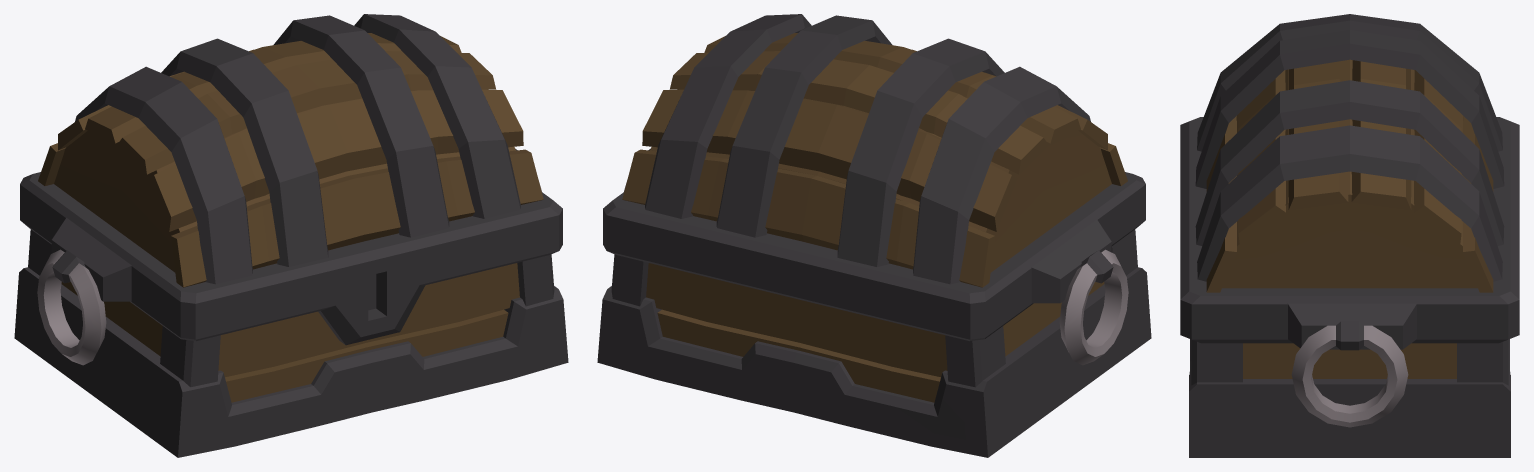
The model's file is chest_q.glb.
The picture shows the model from 3 angles, left to right: view 1: azimuth 30°, elevation 25°; view 2: azimuth 150°, elevation 25°; view 3: azimuth 270°, elevation 25°; orthographic projection.
Parts seen in each view (by area): view 1: Prop_Chest_Closed; view 2: Prop_Chest_Closed; view 3: Prop_Chest_Closed.
Boxes of the visible parts, bbox=[...] form: Prop_Chest_Closed: bbox=[14, 14, 568, 457]; Prop_Chest_Closed: bbox=[597, 14, 1151, 457]; Prop_Chest_Closed: bbox=[1180, 14, 1519, 457].
Size of the model in its own units: 1.11 by 0.7 by 0.7048.
1 material, 1 textured.
